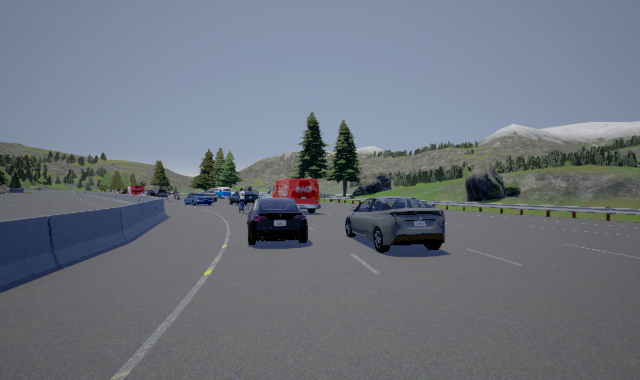vehicle: (345, 196, 445, 253), (244, 179, 321, 245), (184, 187, 239, 206), (118, 186, 167, 198)
